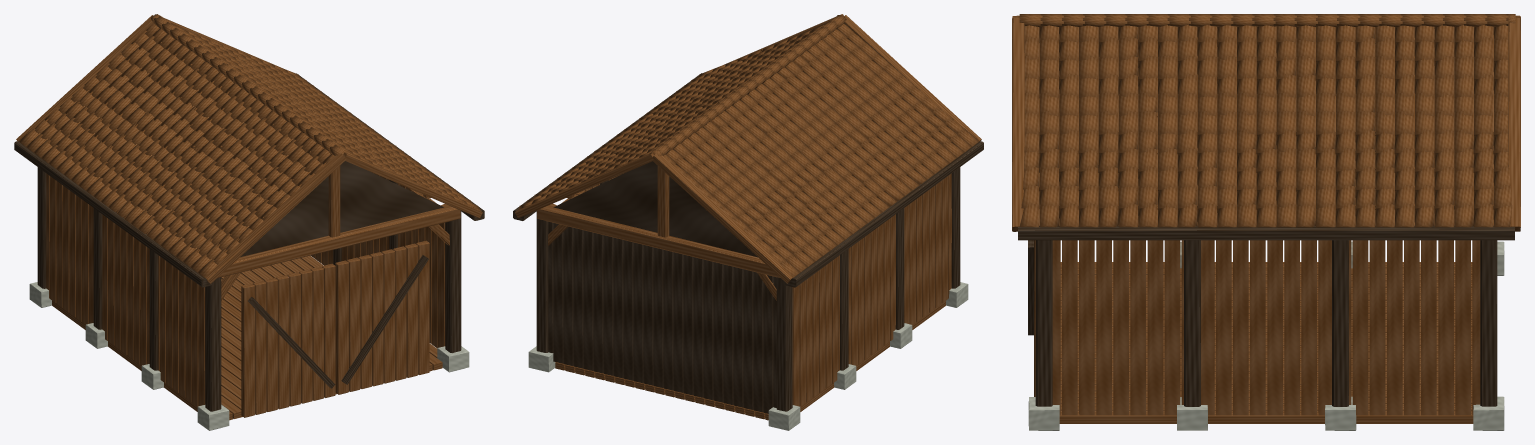
The model's file is boatshed_closed.glb.
3 views of the same model, side by side, from view 1: azimuth 30°, elevation 25°; view 2: azimuth 150°, elevation 25°; view 3: azimuth 270°, elevation 25° (orthographic). The views are drawn at different scales.
Parts seen in each view (by area): view 1: boatshed_closed_Joinery.001, boatshed_closed_Roof.001, boatshed_closed_Structure.001; view 2: boatshed_closed_Joinery.001, boatshed_closed_Roof.001, boatshed_closed_Structure.001; view 3: boatshed_closed_Roof.001, boatshed_closed_Joinery.001, boatshed_closed_Structure.001.
Part boxes in pixels (x1,y1,x2,y2): boatshed_closed_Joinery.001: (14, 14, 484, 420); boatshed_closed_Roof.001: (18, 14, 480, 277); boatshed_closed_Structure.001: (29, 282, 469, 430); boatshed_closed_Joinery.001: (513, 14, 983, 420); boatshed_closed_Roof.001: (518, 15, 979, 277); boatshed_closed_Structure.001: (528, 282, 968, 430); boatshed_closed_Roof.001: (1019, 14, 1515, 227); boatshed_closed_Joinery.001: (1012, 15, 1520, 423); boatshed_closed_Structure.001: (1028, 241, 1504, 430).
Size of the model in its own units: 6.14 by 5.19 by 7.21.
Materials: 1 (1 with a texture image).
